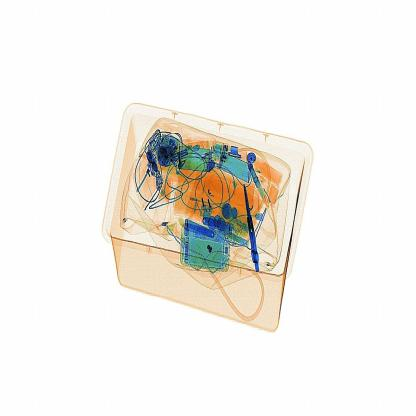gun: (240, 181, 272, 288)
